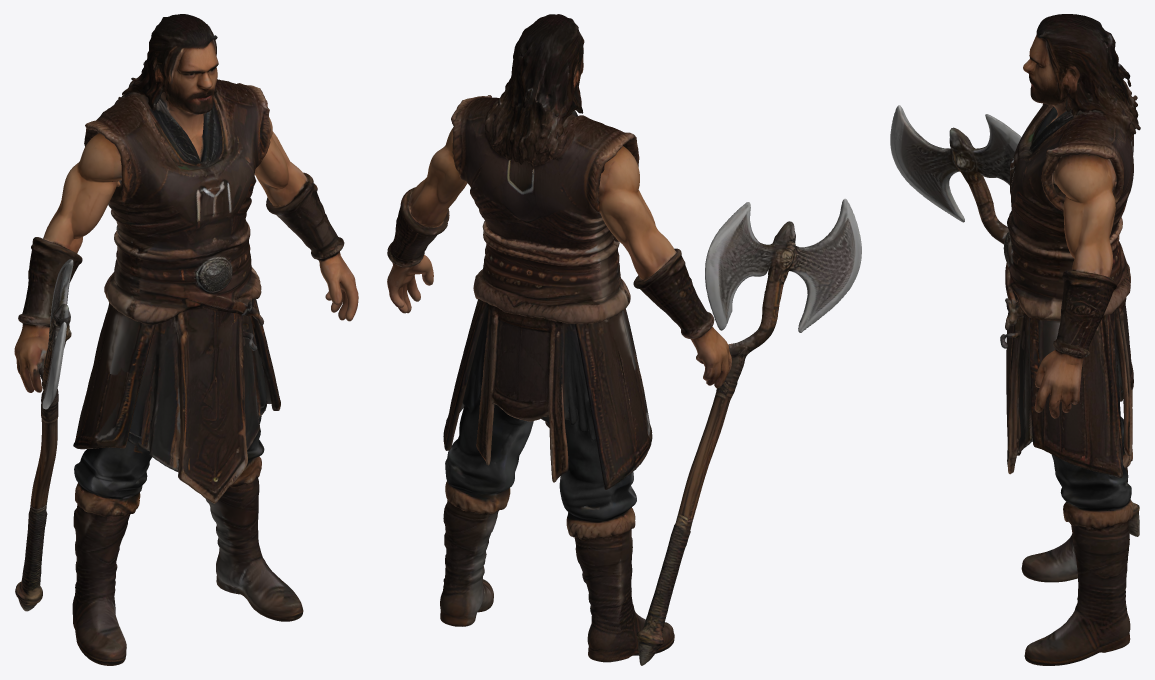
File: fantasy+warrior+3d+model.obj
The picture shows the model from 3 angles, left to right: view 1: azimuth 30°, elevation 25°; view 2: azimuth 150°, elevation 25°; view 3: azimuth 270°, elevation 25°; orthographic projection.
Parts seen in each view (by area): view 1: tripo_node_b54e3773-d8fa-43fd-bc1a-1fd0973493be; view 2: tripo_node_b54e3773-d8fa-43fd-bc1a-1fd0973493be; view 3: tripo_node_b54e3773-d8fa-43fd-bc1a-1fd0973493be.
Boxes of the visible parts, x1=… form: tripo_node_b54e3773-d8fa-43fd-bc1a-1fd0973493be: x1=14, y1=14, x2=358, y2=665; tripo_node_b54e3773-d8fa-43fd-bc1a-1fd0973493be: x1=387, y1=14, x2=861, y2=665; tripo_node_b54e3773-d8fa-43fd-bc1a-1fd0973493be: x1=890, y1=14, x2=1140, y2=665.
Bounding box in the file's own units: 0.655 × 1 × 0.3764.
Materials: 1 (1 with a texture image).
